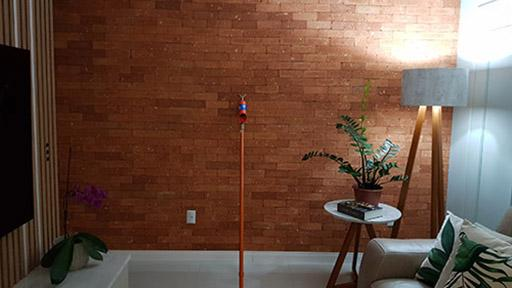Detector_Tensao_Contato: (238, 92, 248, 124)
Vara_Manobra: (238, 123, 246, 288)
